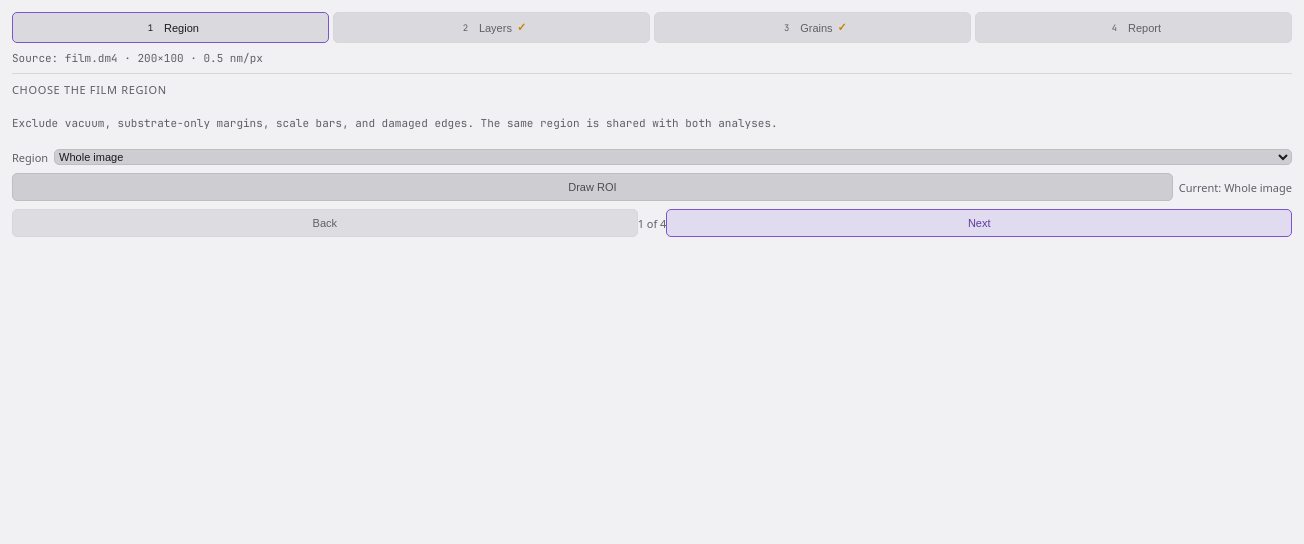
Test: CrossSectionGuide › exports with the optional per-layer step skipped
The image size is (1304, 544).
Click the button "4 Report": (1134, 28) [975, 12, 1292, 43]
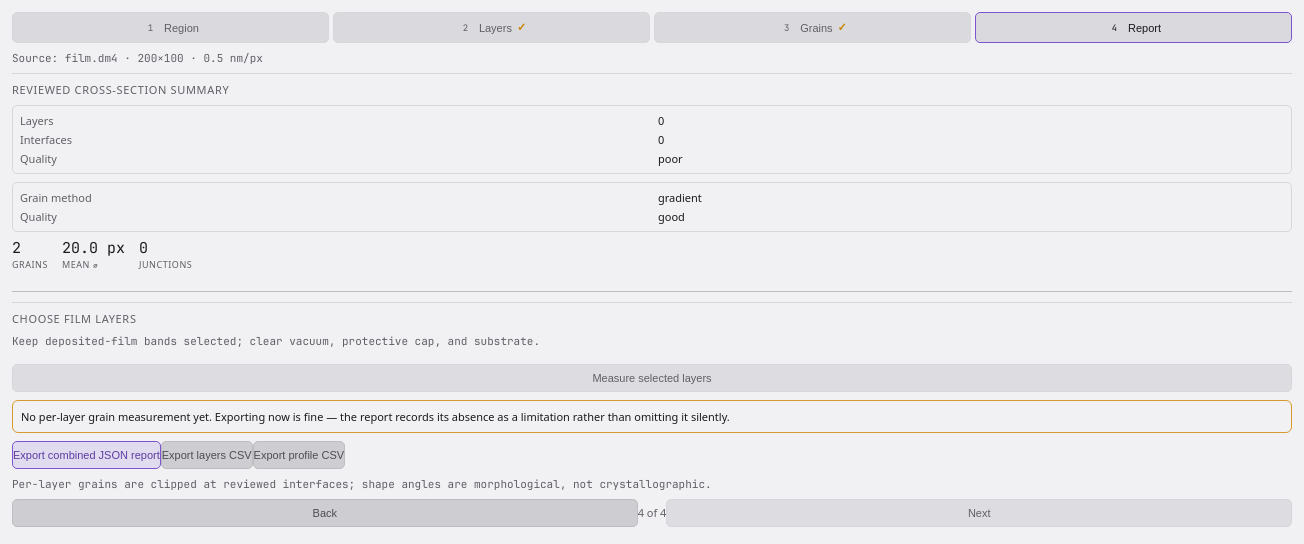
Expected: the button "Export combined JSON report" is enabled, [12, 440, 161, 468]
Expected: the text "No per-layer grain measurement yet" is shown, [21, 408, 730, 424]
